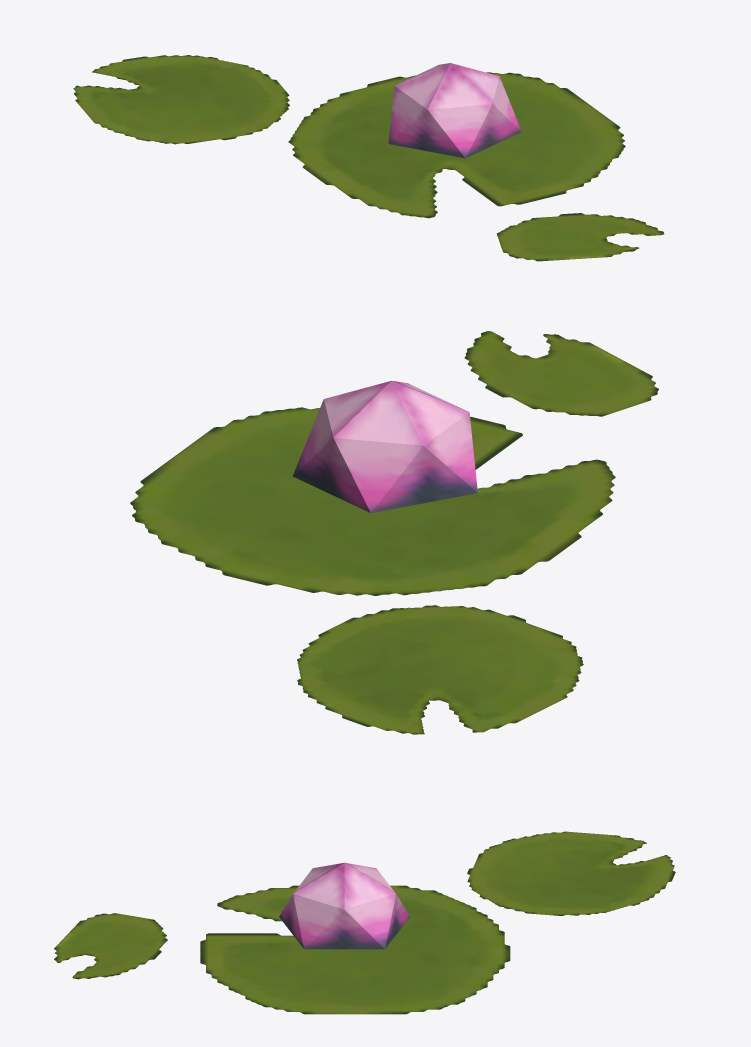
The model's file is lilypad_04.fbx.
3 views of the same model, one above another, from view 1: azimuth 30°, elevation 25°; view 2: azimuth 150°, elevation 25°; view 3: azimuth 270°, elevation 25° (orthographic). The views are drawn at different scales.
Parts seen in each view (by area): view 1: obj0.107; view 2: obj0.107; view 3: obj0.107.
Boxes of the visible parts, bbox=[...] form: obj0.107: bbox=[73, 55, 664, 261]; obj0.107: bbox=[130, 331, 658, 734]; obj0.107: bbox=[54, 831, 675, 1014].
Bounding box in the file's own units: 1.65 × 0.2876 × 2.3.
